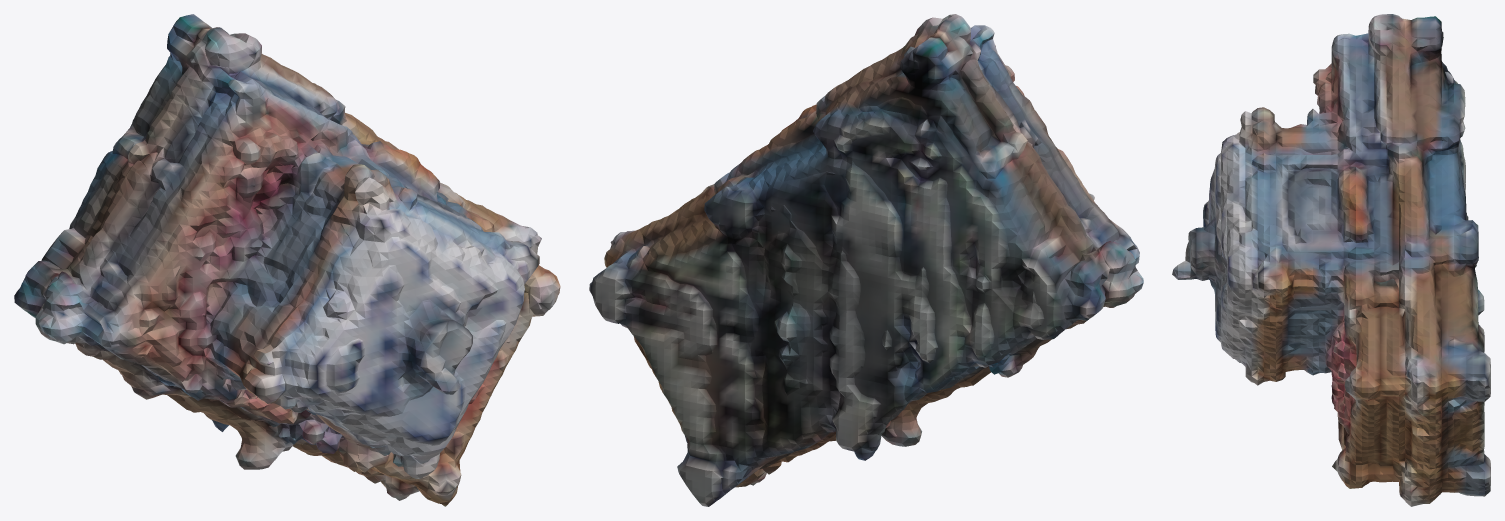
The model's file is single_view_seed.glb.
3 views of the same model, side by side, from view 1: azimuth 30°, elevation 25°; view 2: azimuth 150°, elevation 25°; view 3: azimuth 270°, elevation 25° (orthographic). The views are drawn at different scales.
Visible parts, largest first — view 1: world; view 2: world; view 3: world.
Boxes of the visible parts, box(x1,y1,x2,y2) form: world: box(14, 14, 560, 506); world: box(589, 14, 1143, 506); world: box(1172, 14, 1490, 506).
Size of the model in its own units: 1.07 by 1.02 by 0.7117.
